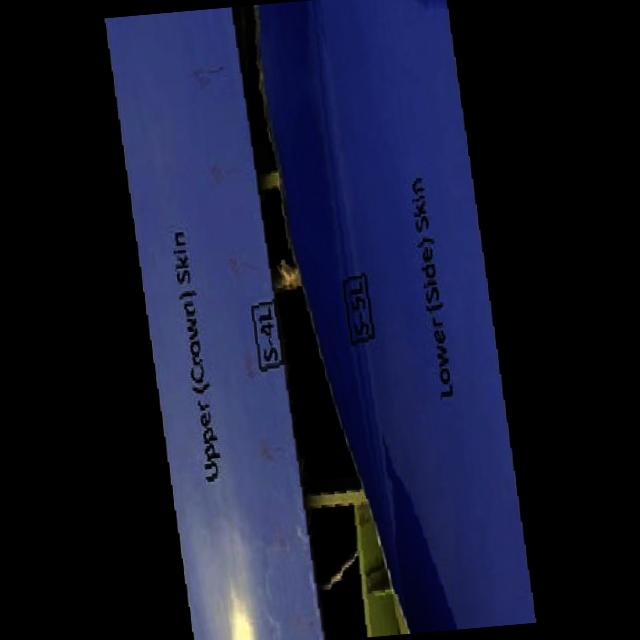crack: (228, 0, 425, 640)
